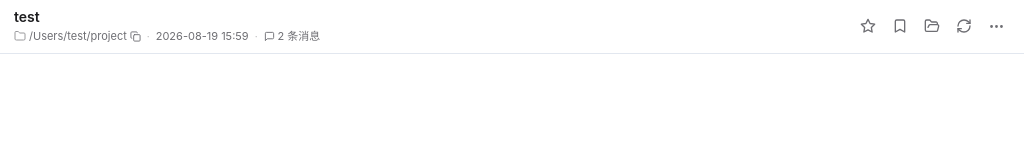
Test: SessionHeader more-menu dropdown items & events › copies project path when clicking session-path button
Click the button with class "session-path": click(77, 36) [14,29,141,43]
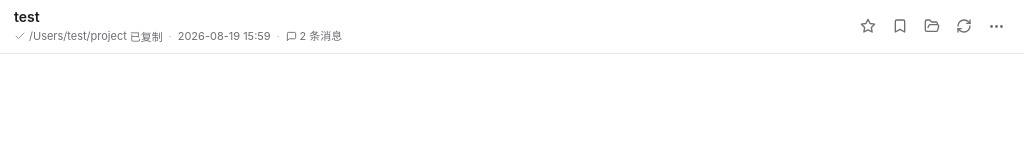
Result: the text "已复制" is shown at [130,28,163,44]
